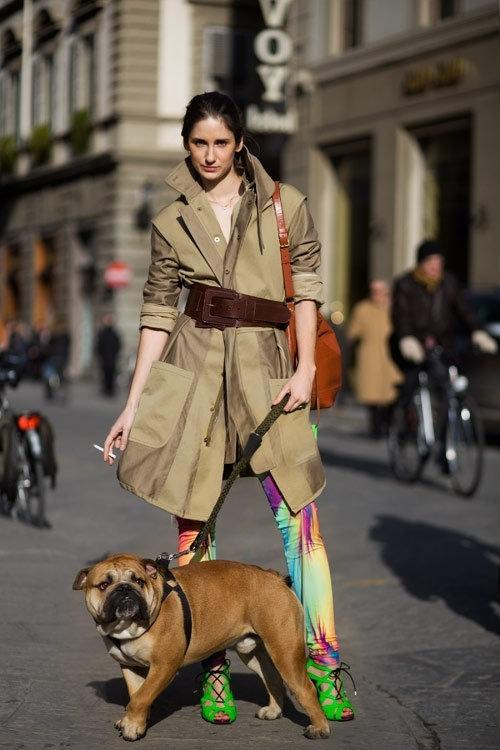non-vehicle: (384, 343, 490, 500), (0, 366, 53, 530)
